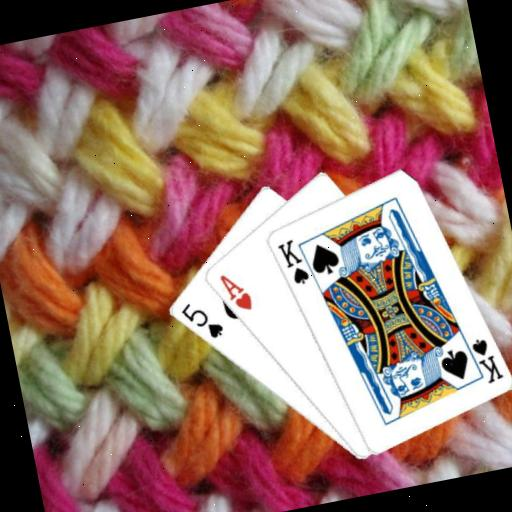5S: (176, 295, 226, 346)
AH: (215, 267, 255, 317)
KS: (460, 330, 506, 388), (273, 234, 313, 289)
